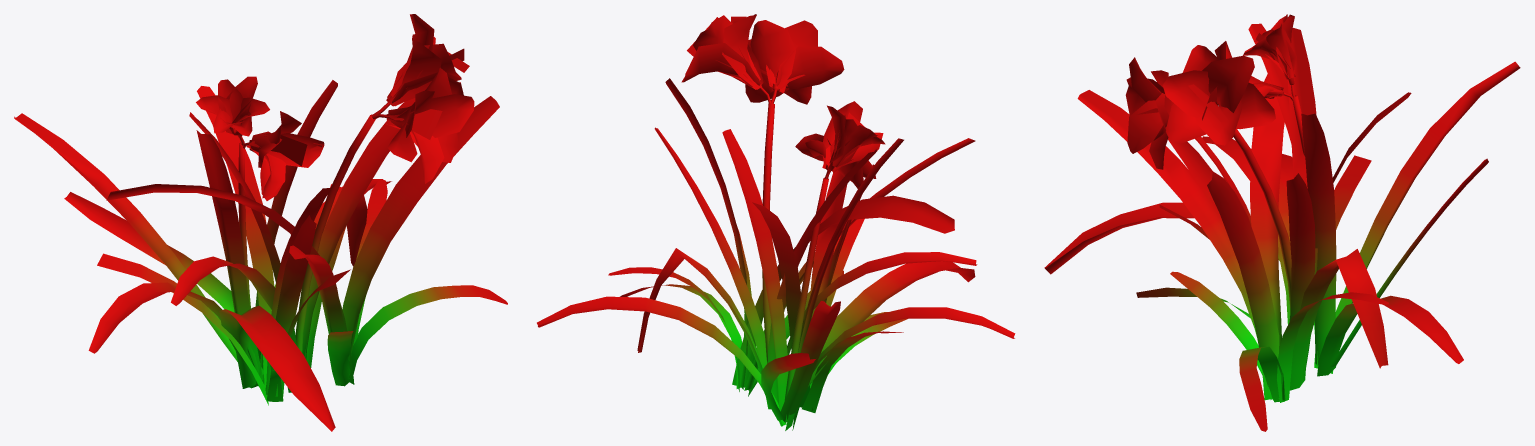
Rendered from Var5_LOD0.fbx.
The picture shows the model from 3 angles, left to right: view 1: azimuth 30°, elevation 25°; view 2: azimuth 150°, elevation 25°; view 3: azimuth 270°, elevation 25°; orthographic projection. The views are drawn at different scales.
Visible parts, largest first — view 1: _843a_Var5_LOD0; view 2: _843a_Var5_LOD0; view 3: _843a_Var5_LOD0.
Boxes of the visible parts, bbox=[...] form: _843a_Var5_LOD0: bbox=[14, 14, 507, 431]; _843a_Var5_LOD0: bbox=[537, 14, 1015, 430]; _843a_Var5_LOD0: bbox=[1044, 14, 1520, 431].
Size of the model in its own units: 85.38 by 71.35 by 81.24.
